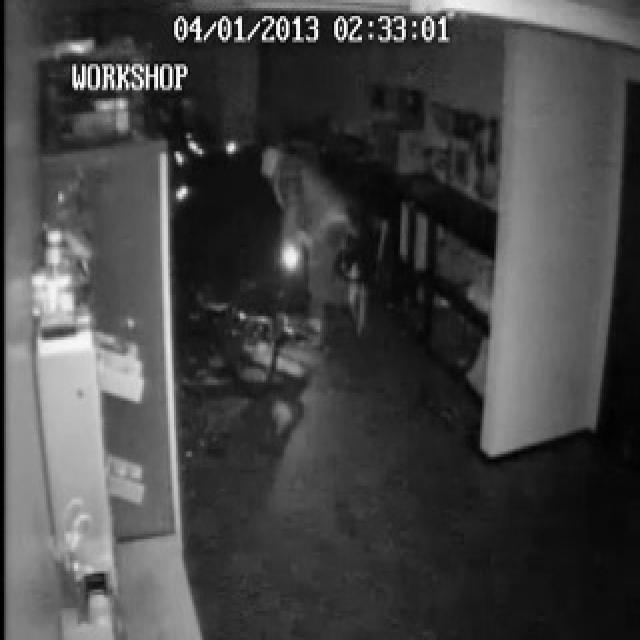thief: (248, 128, 358, 300)
